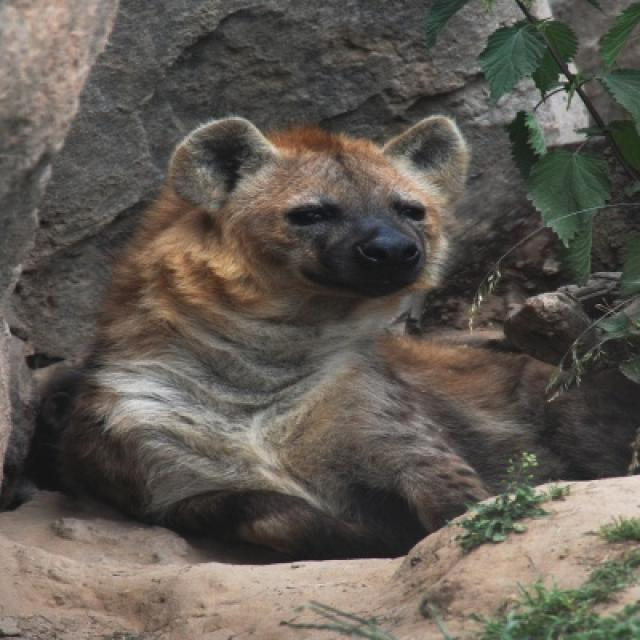hyena: (30, 115, 638, 563)
